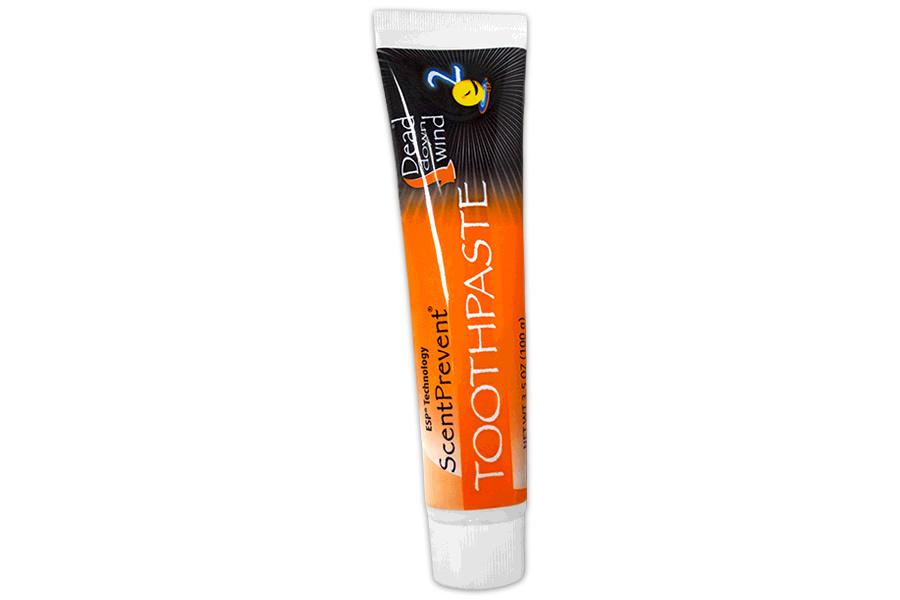toothpaste: (362, 0, 558, 588)
